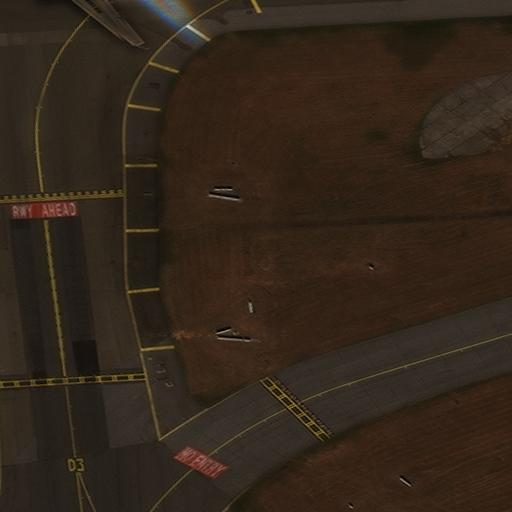Large Civil Transport: (5, 0, 174, 47)
